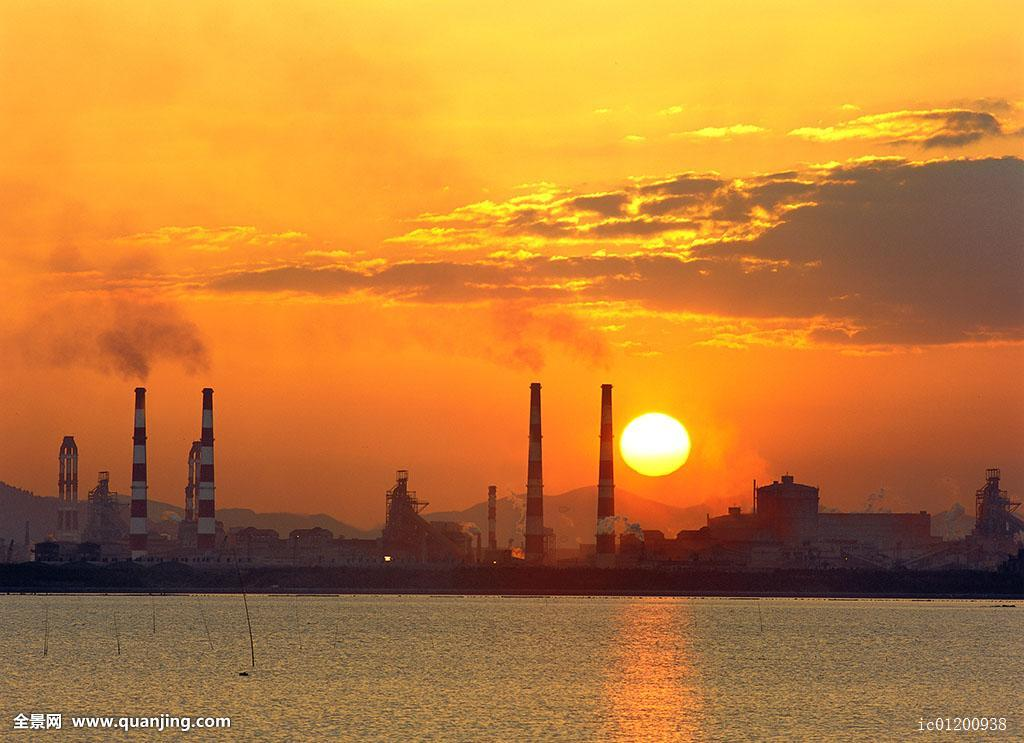dust: (56, 264, 225, 416)
